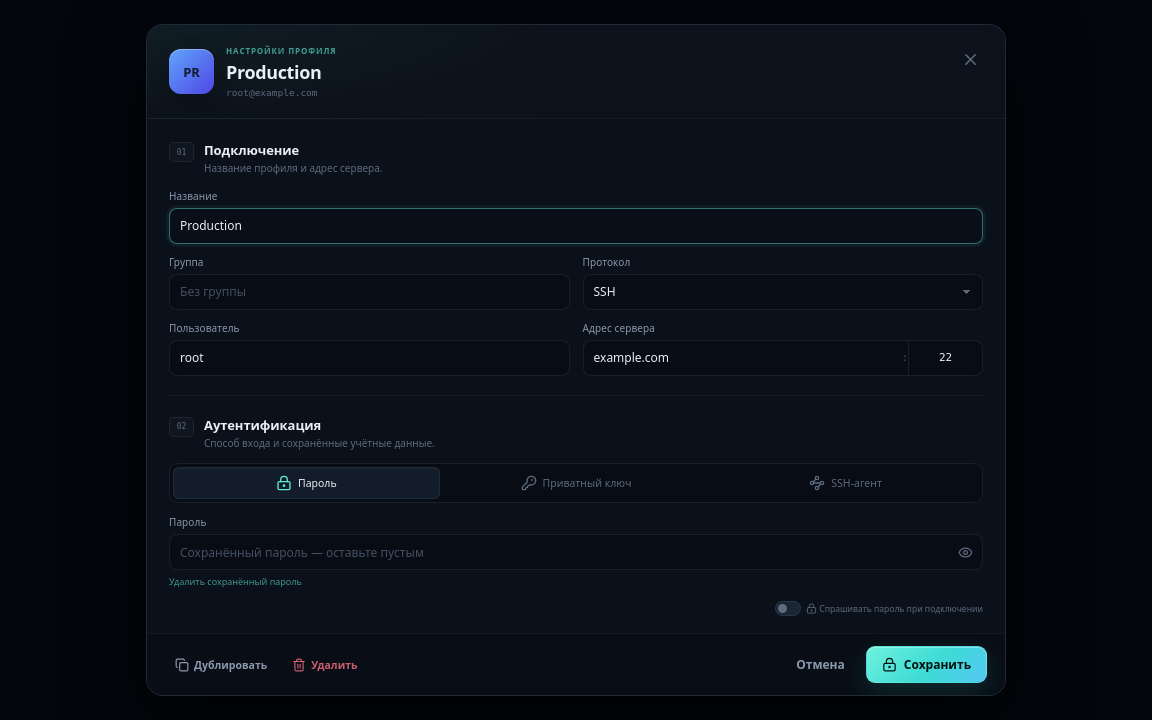
Test case: ConnectionModal › показывает ошибку сохранения и исключение
This screenshot has width=1152, height=720.
Later steps or results of the test are not shown.
Click the button "Сохранить": (926, 664) x1=866 y1=646 x2=987 y2=683
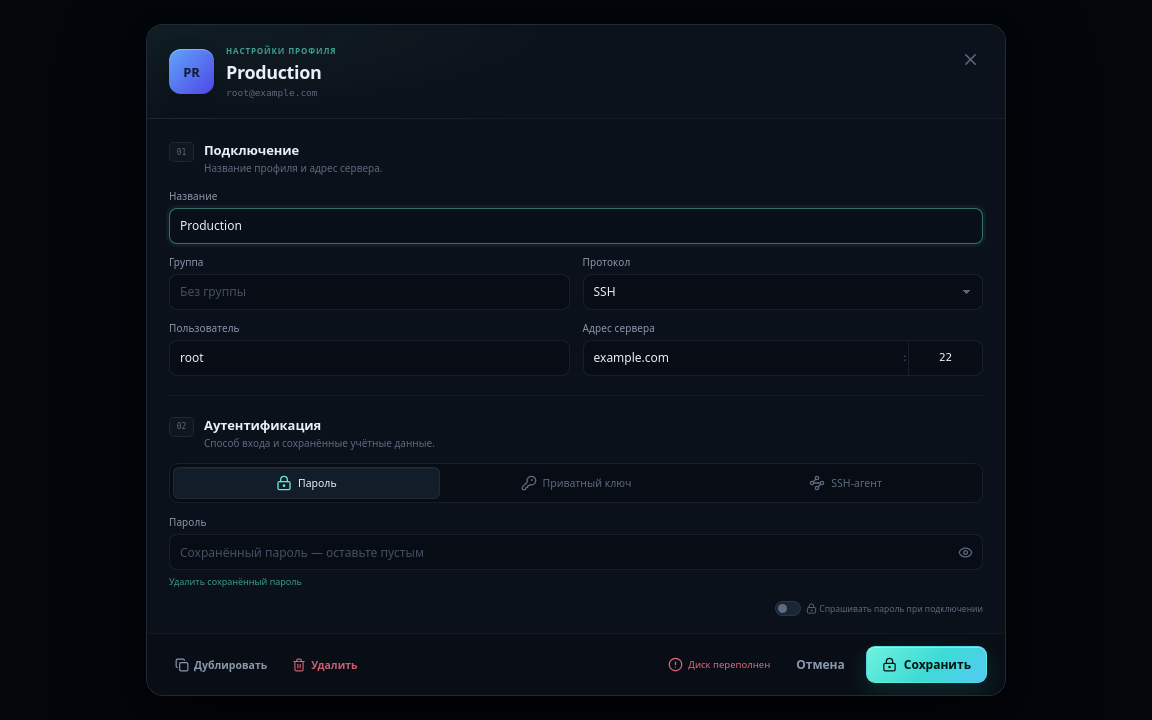
Now the text "Диск переполнен" is shown, box x1=668 y1=657 x2=770 y2=672
